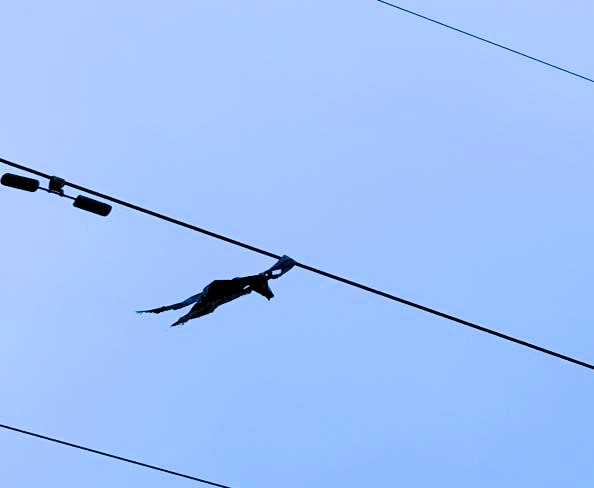wire foreign body: (142, 246, 305, 333)
